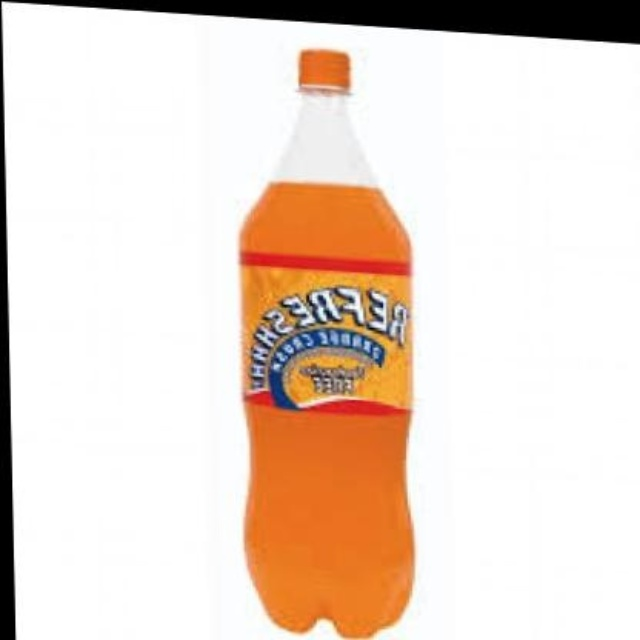trash: (240, 49, 412, 635)
